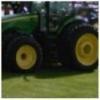tractors: (2, 2, 99, 74)
